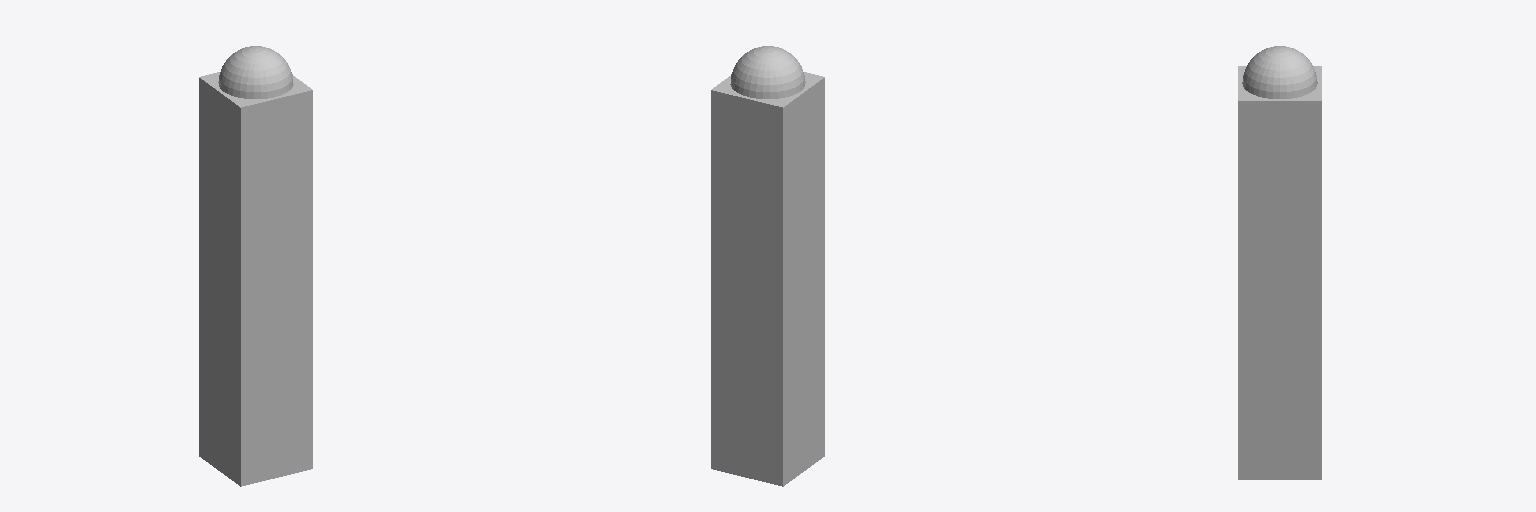
The model's file is bank_inside_alarm.obj.
3 views of the same model, side by side, from view 1: azimuth 30°, elevation 25°; view 2: azimuth 150°, elevation 25°; view 3: azimuth 270°, elevation 25° (orthographic).
Parts seen in each view (by area): view 1: Cube, Sphere; view 2: Cube, Sphere; view 3: Cube, Sphere.
Part boxes in pixels (bbox=[...]): Cube: bbox=[199, 72, 312, 486]; Sphere: bbox=[218, 46, 293, 98]; Cube: bbox=[711, 72, 824, 486]; Sphere: bbox=[730, 46, 805, 98]; Cube: bbox=[1238, 66, 1321, 479]; Sphere: bbox=[1242, 46, 1317, 98].
Size of the model in its own units: 0.2 by 1.09 by 0.2.